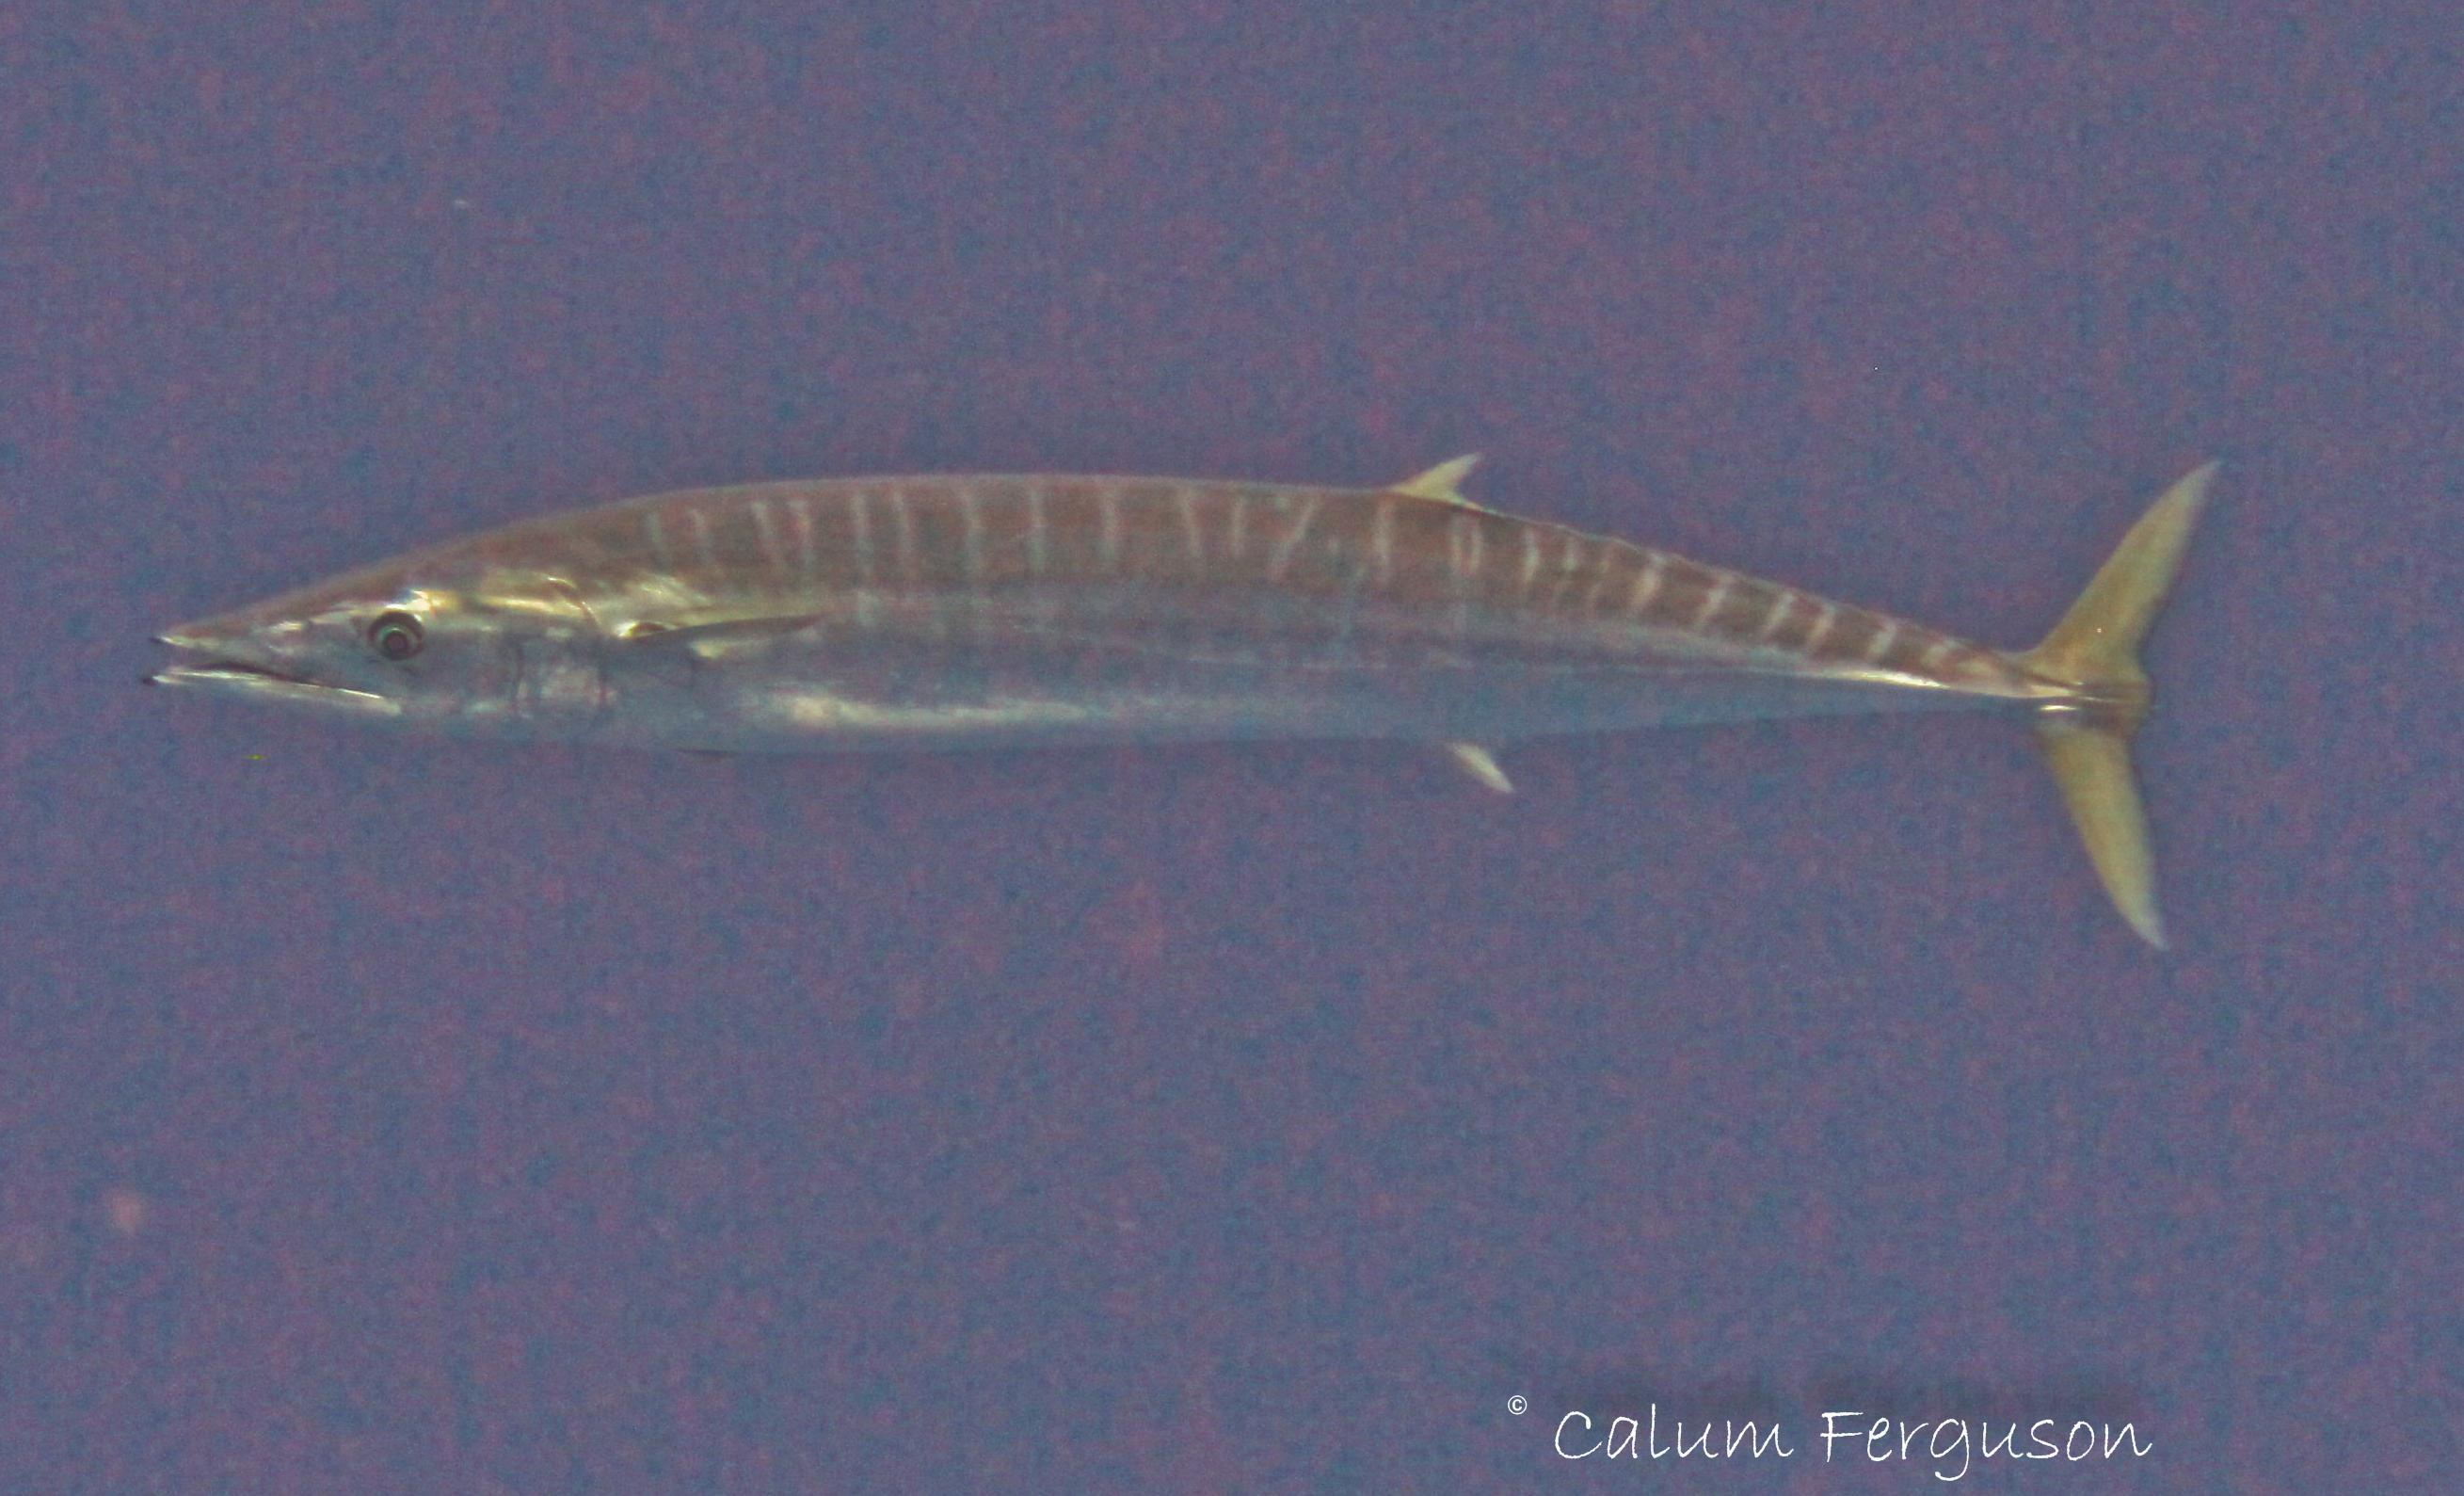Fish: (141, 370, 2221, 963)
